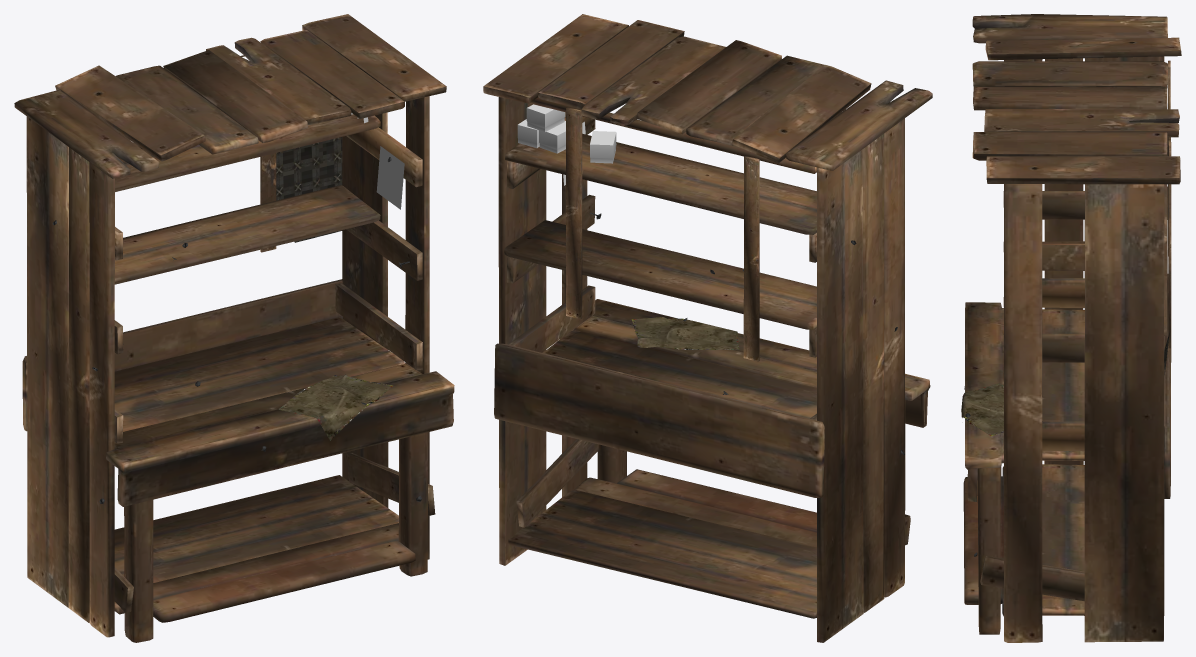
File: tier1workbench.glb
3 views of the same model, side by side, from view 1: azimuth 30°, elevation 25°; view 2: azimuth 150°, elevation 25°; view 3: azimuth 270°, elevation 25° (orthographic). The views are drawn at different scales.
Parts seen in each view (by area): view 1: tier1wood_LOD0; view 2: tier1wood_LOD0; view 3: tier1wood_LOD0.
Part boxes in pixels (bbox=[...]): tier1wood_LOD0: bbox=[14, 14, 454, 642]; tier1wood_LOD0: bbox=[483, 14, 932, 642]; tier1wood_LOD0: bbox=[961, 14, 1181, 642].
Bounding box in the file's own units: 1.63 × 2.23 × 0.9336.
2 materials, 2 textured.
